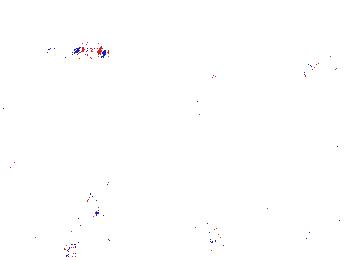X-ray fish: (179, 211, 222, 252)
glassfish: (171, 131, 273, 193), (65, 161, 124, 250)
red belly glassfish: (53, 43, 109, 63), (206, 67, 221, 88)
